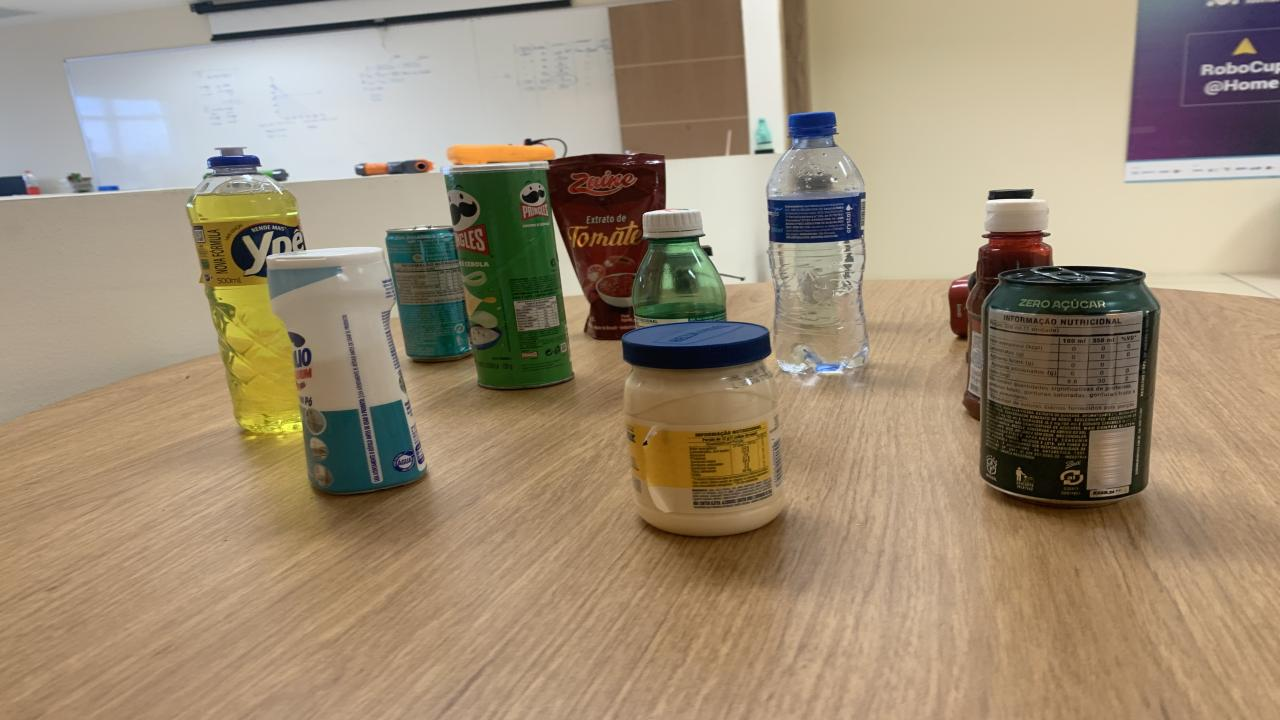Cleaner-Cleanup_Items: (268, 248, 428, 493)
Detergent-Cleanup_Items: (188, 148, 305, 433)
Guarana-Drinks: (632, 210, 725, 328)
Guarana_Can-Drinks: (980, 266, 1160, 506)
Ketchup-Pantry_Items: (962, 199, 1052, 418)
Mayonnaise-Pantry_Items: (622, 321, 785, 536)
Pringles-Snacks: (445, 161, 572, 388)
Tea-Drinks: (385, 225, 470, 362)
Tomato_Sauce-Pantry_Items: (548, 154, 665, 339)
Tuna_Can-Pantry_Items: (948, 276, 970, 338)
Water_Bottle-Drinks: (768, 112, 870, 373)
